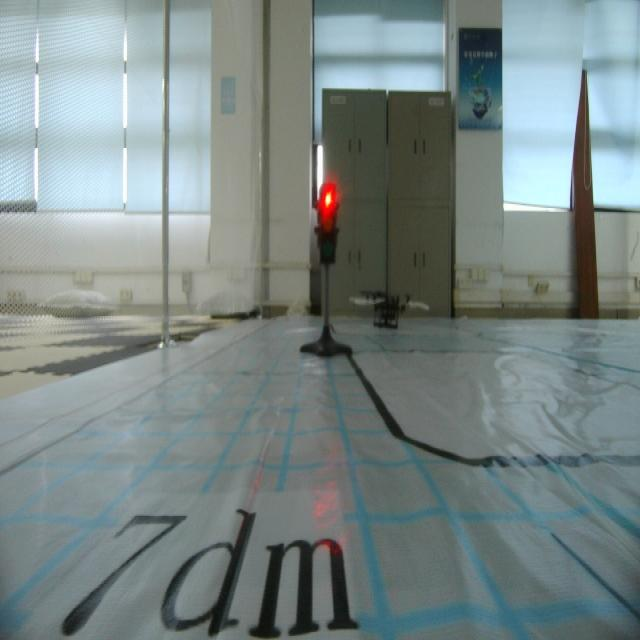red: (315, 177, 338, 265)
